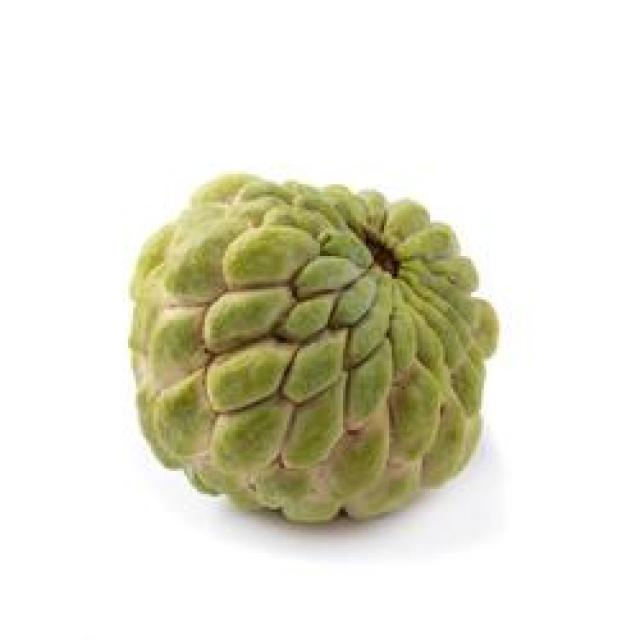apple: (116, 144, 504, 540)
